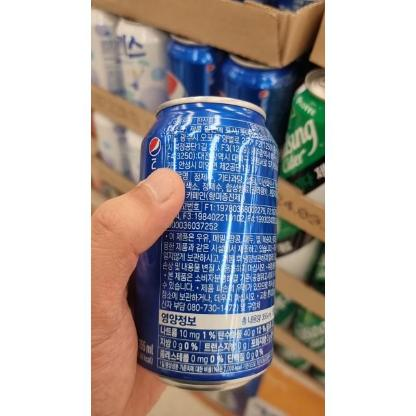Can: (130, 94, 278, 392)
